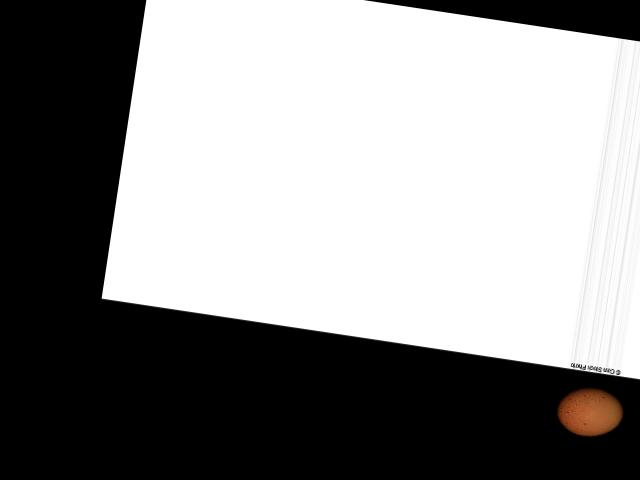egg: (553, 381, 626, 440)
